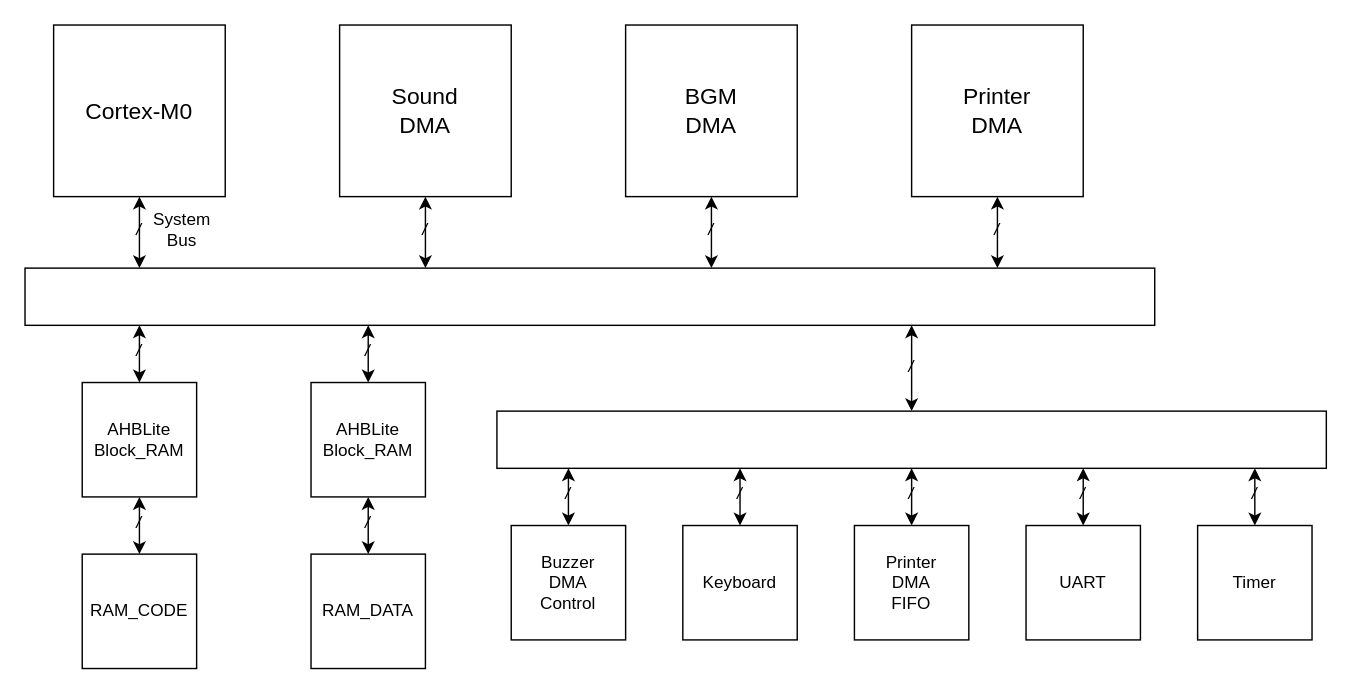
Some shapes in this 1351 by 694 pixel diagram are drawn without their labels. Each missing label, with the box of its shape:
AHB Bus Matrix: (24, 267, 1155, 325)
AHB2APB Bridge: (495, 410, 1326, 468)
